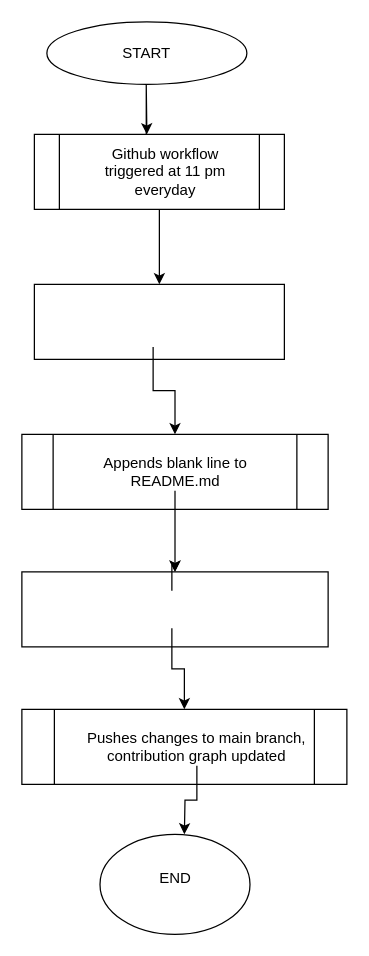
This 369x956 diagram has some shape labels left out. Here are the shapes that lost their labels. From the top down, the centre of each, then its label:
point (158, 321): Execute Bash command:
point (174, 609): Git Commit & Push Changes
